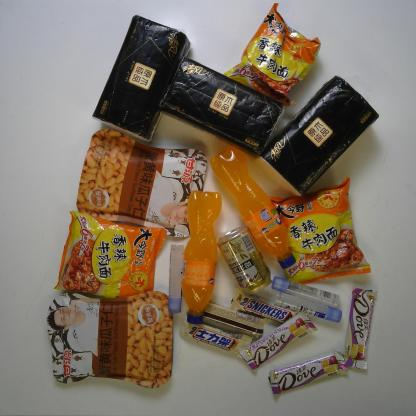Alcohol: (218, 225, 274, 298)
Chocolate: (239, 311, 318, 370), (267, 350, 348, 395), (345, 287, 378, 372), (228, 288, 298, 327), (197, 300, 268, 337), (184, 320, 254, 356)
Dried Fruit: (74, 126, 210, 238), (44, 292, 178, 391)
Drink: (210, 144, 298, 269), (182, 191, 224, 325)
Instant Noodles: (267, 178, 374, 286), (53, 205, 167, 304), (222, 4, 321, 104)
Stationery: (271, 274, 342, 308), (274, 291, 344, 324), (168, 244, 184, 313)
Tissue: (264, 76, 380, 200), (158, 54, 285, 158), (92, 15, 191, 145)
